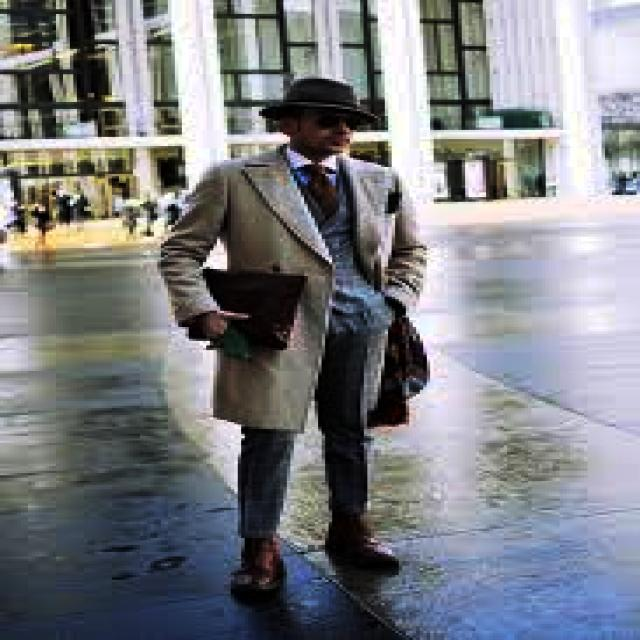TOPI: (255, 72, 385, 132)
